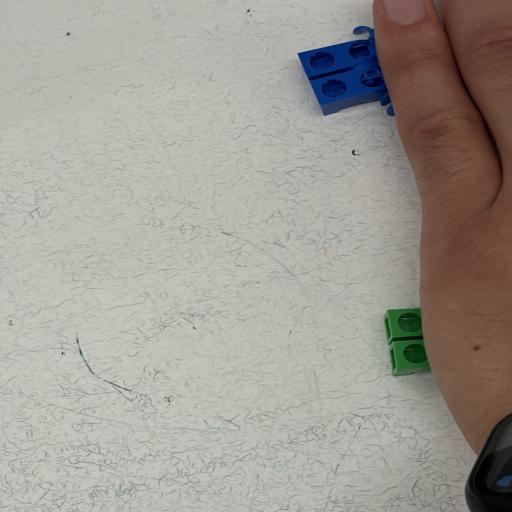Blue-Lego: (297, 26, 395, 116)
Green-Lego: (383, 308, 431, 377)
